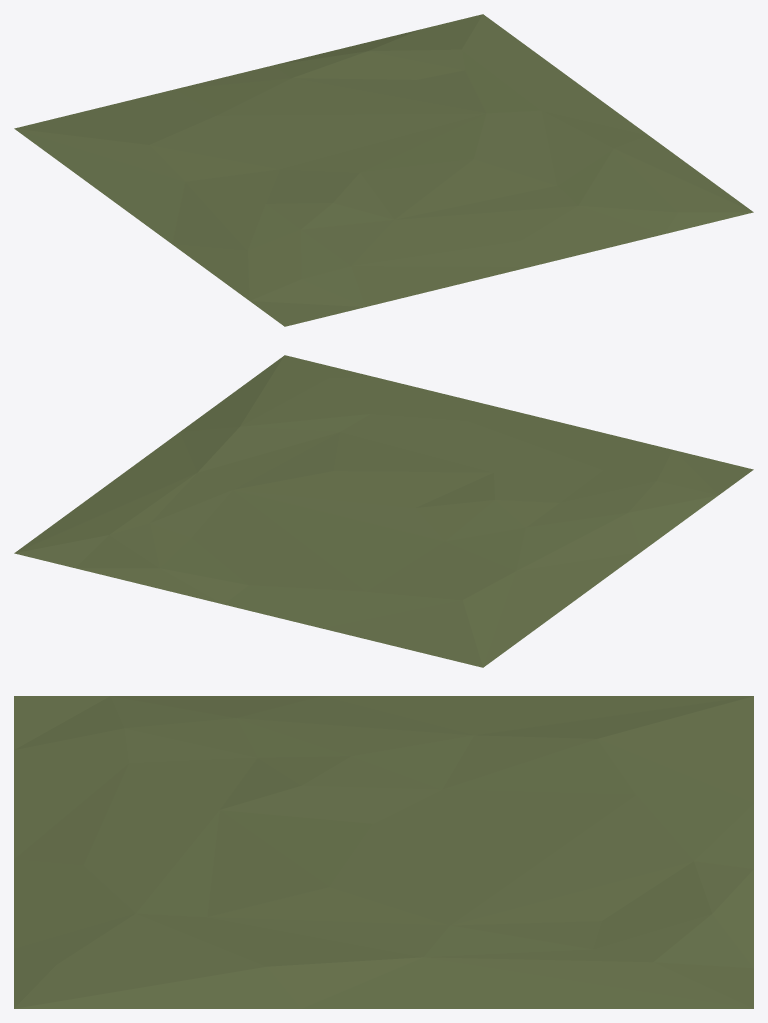
Rendered from SM_Envr_Nature_Terrain_Ground_02.fbx.
The picture shows the model from 3 angles, top to bottom: view 1: azimuth 30°, elevation 25°; view 2: azimuth 150°, elevation 25°; view 3: azimuth 270°, elevation 25°; orthographic projection. The views are drawn at different scales.
Visible parts, largest first — view 1: SM_Envr_Nature_Terrain_Ground_02; view 2: SM_Envr_Nature_Terrain_Ground_02; view 3: SM_Envr_Nature_Terrain_Ground_02.
Boxes of the visible parts, x1=… form: SM_Envr_Nature_Terrain_Ground_02: x1=14, y1=14, x2=753, y2=326; SM_Envr_Nature_Terrain_Ground_02: x1=14, y1=355, x2=753, y2=667; SM_Envr_Nature_Terrain_Ground_02: x1=14, y1=696, x2=753, y2=1008.
Bounding box in the file's own units: 500 × 9.51 × 500.
